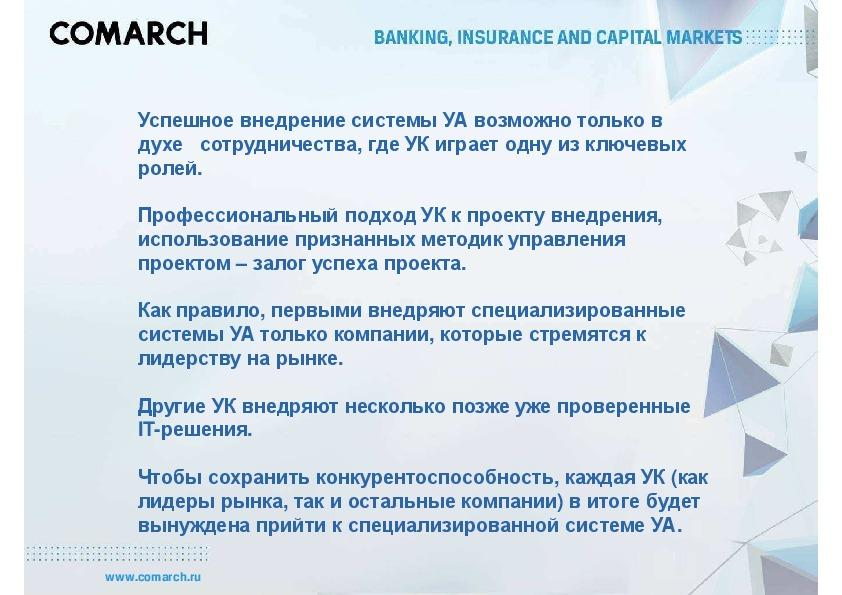paragraph: (123, 97, 755, 543)
title: (36, 6, 770, 68)
